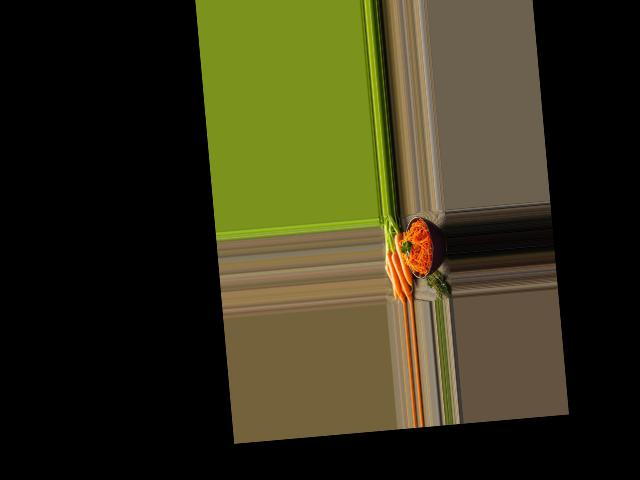carrot: (393, 228, 413, 290)
